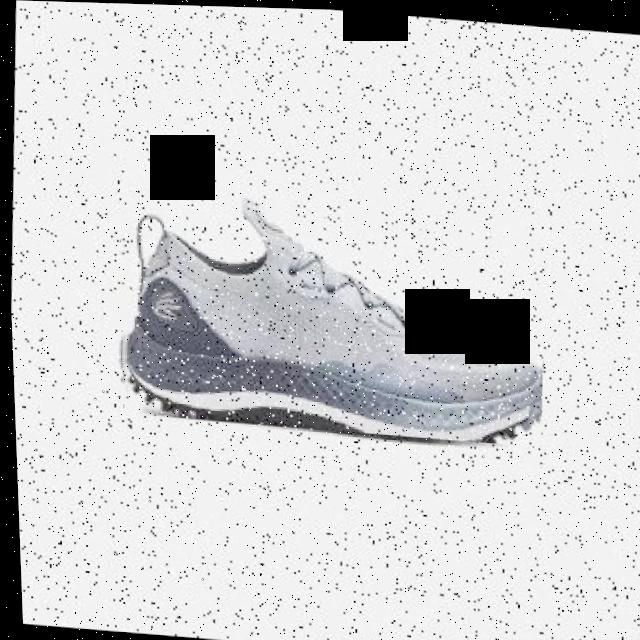shoe: (105, 186, 550, 444)
